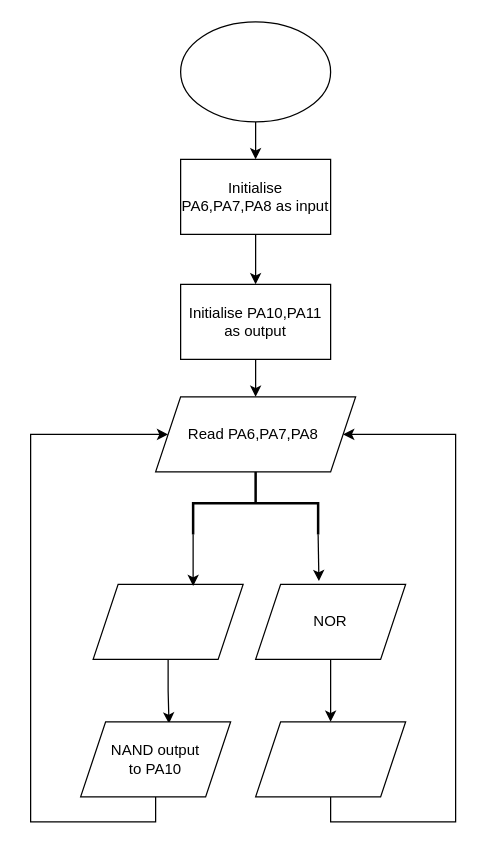
Image size: 488x854. Some labels were removed from this diagram. The shapes that lost their labels are listed below. From the top down, each one's box as (x1, y1, x2, y2) in pixels, then its label:
(179, 21, 331, 122): Start
(92, 583, 243, 659): NAND
(254, 721, 406, 797): NOR output to PA11
